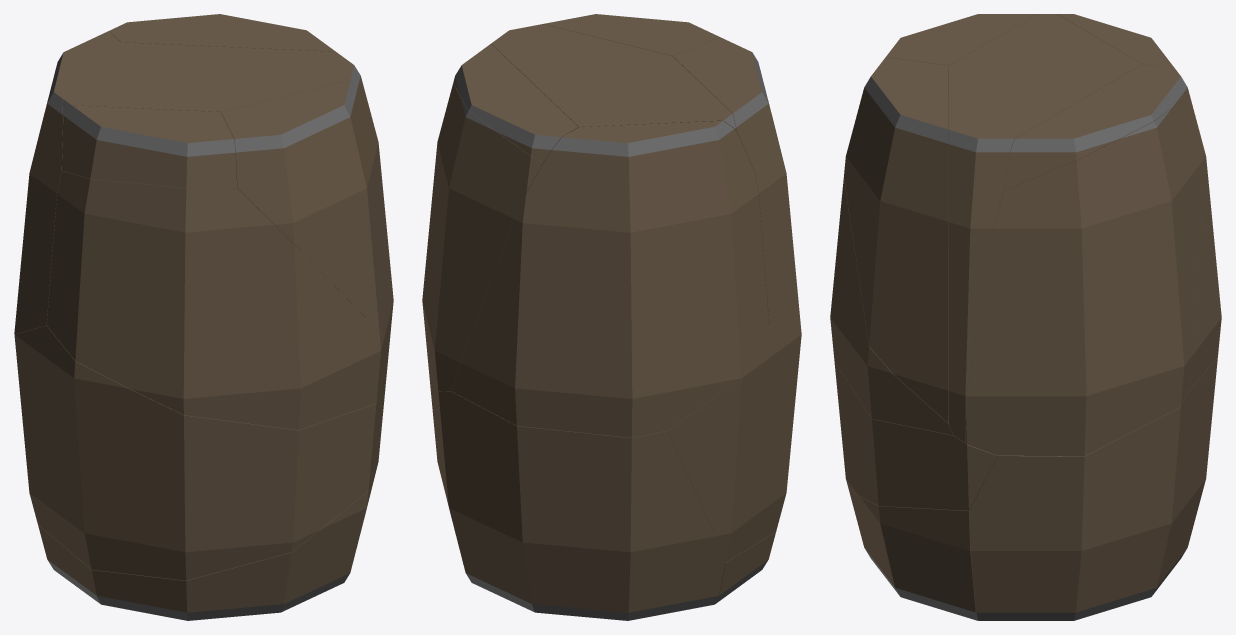
File: Barrel_Shattered.fbx
3 views of the same model, side by side, from view 1: azimuth 30°, elevation 25°; view 2: azimuth 150°, elevation 25°; view 3: azimuth 270°, elevation 25° (orthographic).
Parts seen in each view (by area): view 1: Barrel_cell.042, Barrel_cell.010, Barrel_cell.018, Barrel_cell.038, Barrel_cell.026, Barrel_cell.022, Barrel_cell.014, Barrel_cell.046; view 2: Barrel_cell.014, Barrel_cell.030, Barrel_cell.034, Barrel_cell.010, Barrel_cell.038, Barrel_cell.046, Barrel_cell.022, Barrel_cell.042, Barrel_cell.018, Barrel_cell.026; view 3: Barrel_cell.034, Barrel_cell.030, Barrel_cell.018, Barrel_cell.038, Barrel_cell.010, Barrel_cell.026, Barrel_cell.046, Barrel_cell.042, Barrel_cell.014, Barrel_cell.022.
Boxes of the visible parts, x1,y1,x2,y2 form: Barrel_cell.042: (46, 171, 387, 430); Barrel_cell.010: (14, 326, 388, 580); Barrel_cell.018: (221, 80, 391, 343); Barrel_cell.038: (62, 42, 393, 351); Barrel_cell.026: (38, 421, 382, 620); Barrel_cell.022: (62, 105, 237, 187); Barrel_cell.014: (14, 31, 120, 334); Barrel_cell.046: (109, 14, 335, 51); Barrel_cell.014: (452, 120, 769, 437); Barrel_cell.030: (428, 364, 725, 620); Barrel_cell.034: (422, 83, 543, 391); Barrel_cell.010: (667, 317, 801, 562); Barrel_cell.038: (491, 24, 736, 130); Barrel_cell.046: (453, 44, 578, 162); Barrel_cell.022: (672, 37, 777, 170); Barrel_cell.042: (754, 114, 799, 325); Barrel_cell.018: (542, 14, 719, 55); Barrel_cell.026: (715, 532, 775, 603); Barrel_cell.034: (965, 95, 1202, 456); Barrel_cell.030: (969, 357, 1217, 620); Barrel_cell.018: (844, 57, 948, 422); Barrel_cell.038: (948, 14, 1142, 442); Barrel_cell.010: (834, 237, 997, 510); Barrel_cell.026: (849, 490, 977, 620); Barrel_cell.046: (1004, 64, 1189, 190); Barrel_cell.042: (830, 70, 953, 435); Barrel_cell.014: (1057, 14, 1221, 390); Barrel_cell.022: (886, 14, 1036, 69).
Size of the model in its own units: 230 by 329 by 242.
